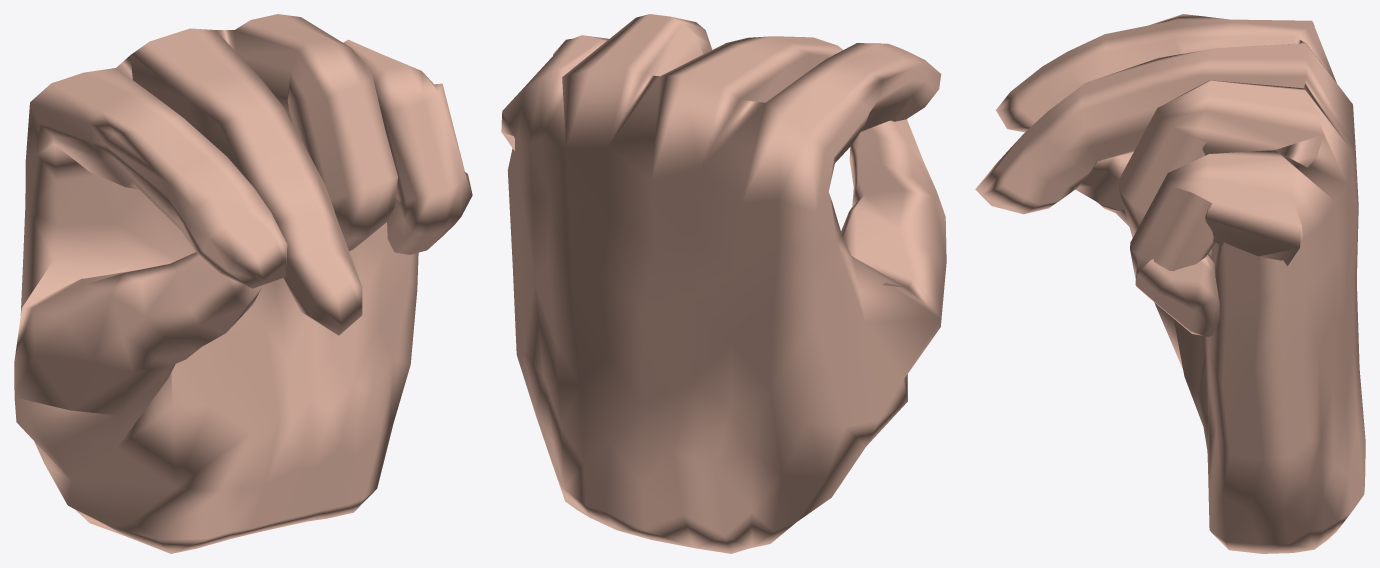
Rendered from MAO_PATO_FECHADA.obj.
The picture shows the model from 3 angles, left to right: view 1: azimuth 30°, elevation 25°; view 2: azimuth 150°, elevation 25°; view 3: azimuth 270°, elevation 25°; orthographic projection. The views are drawn at different scales.
Visible parts, largest first — view 1: mao_dir polySurface1; view 2: mao_dir polySurface1; view 3: mao_dir polySurface1.
Part boxes in pixels (x1,y1,x2,y2): mao_dir polySurface1: (14,14,472,553); mao_dir polySurface1: (501,14,946,553); mao_dir polySurface1: (975,14,1365,553).
Bounding box in the file's own units: 136 × 150 × 119.
